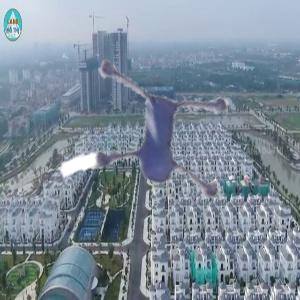drone: (22, 10, 266, 254)
